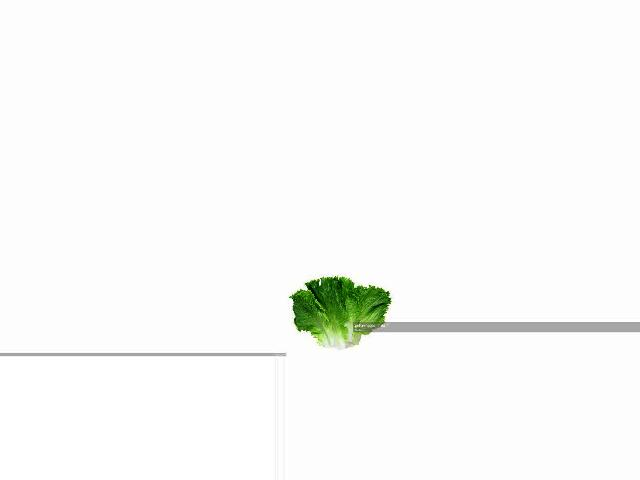lettuce: (291, 278, 386, 350)
